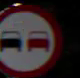No overtake: (0, 6, 64, 77)
